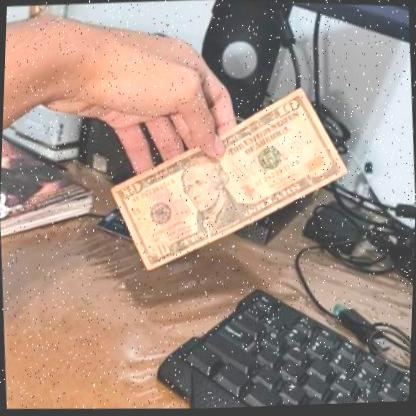ten-front: (102, 70, 361, 289)
